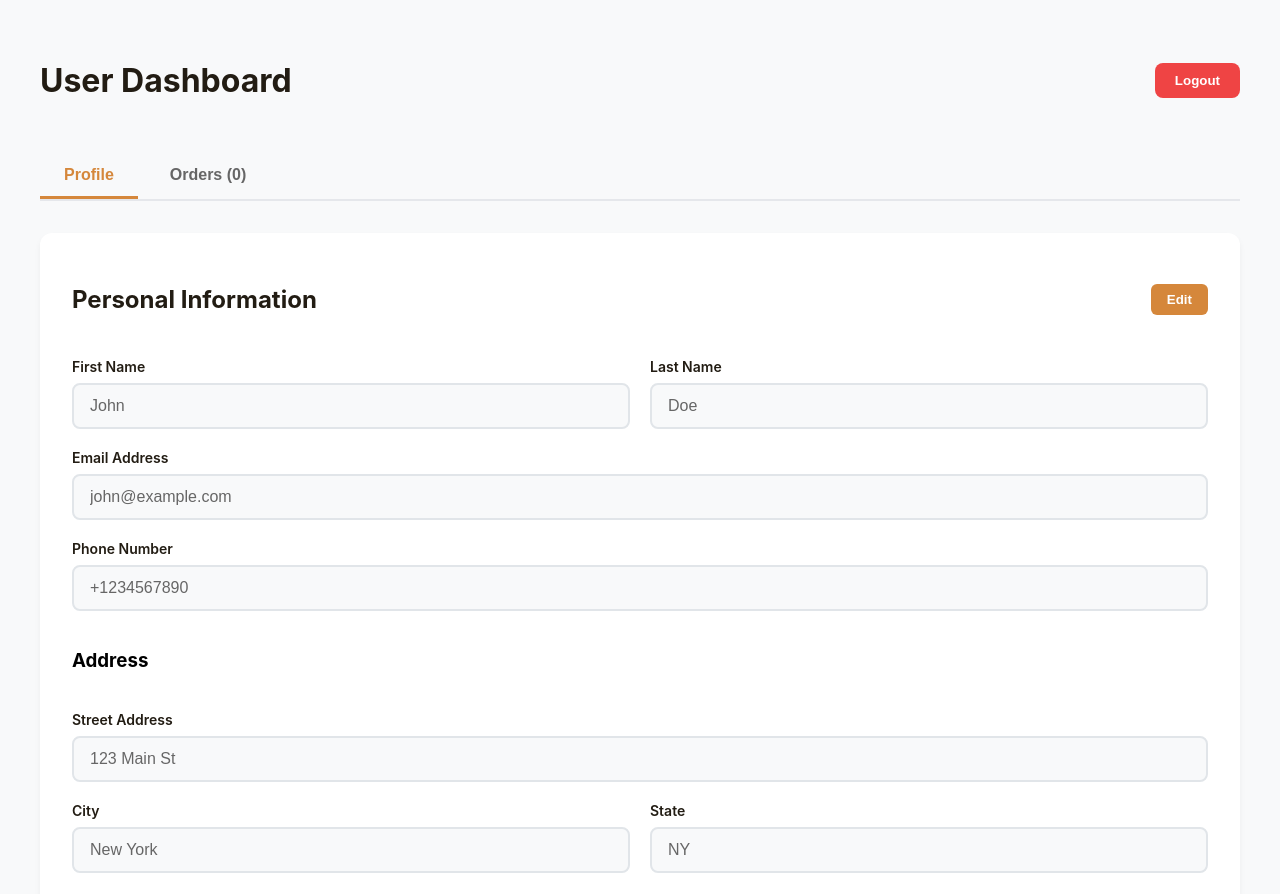
Scenario: DashboardPage › shows empty orders message when no orders exist
The image size is (1280, 894).
Click the button "Orders (0)".
click(208, 176)  # box [146,154,270,199]
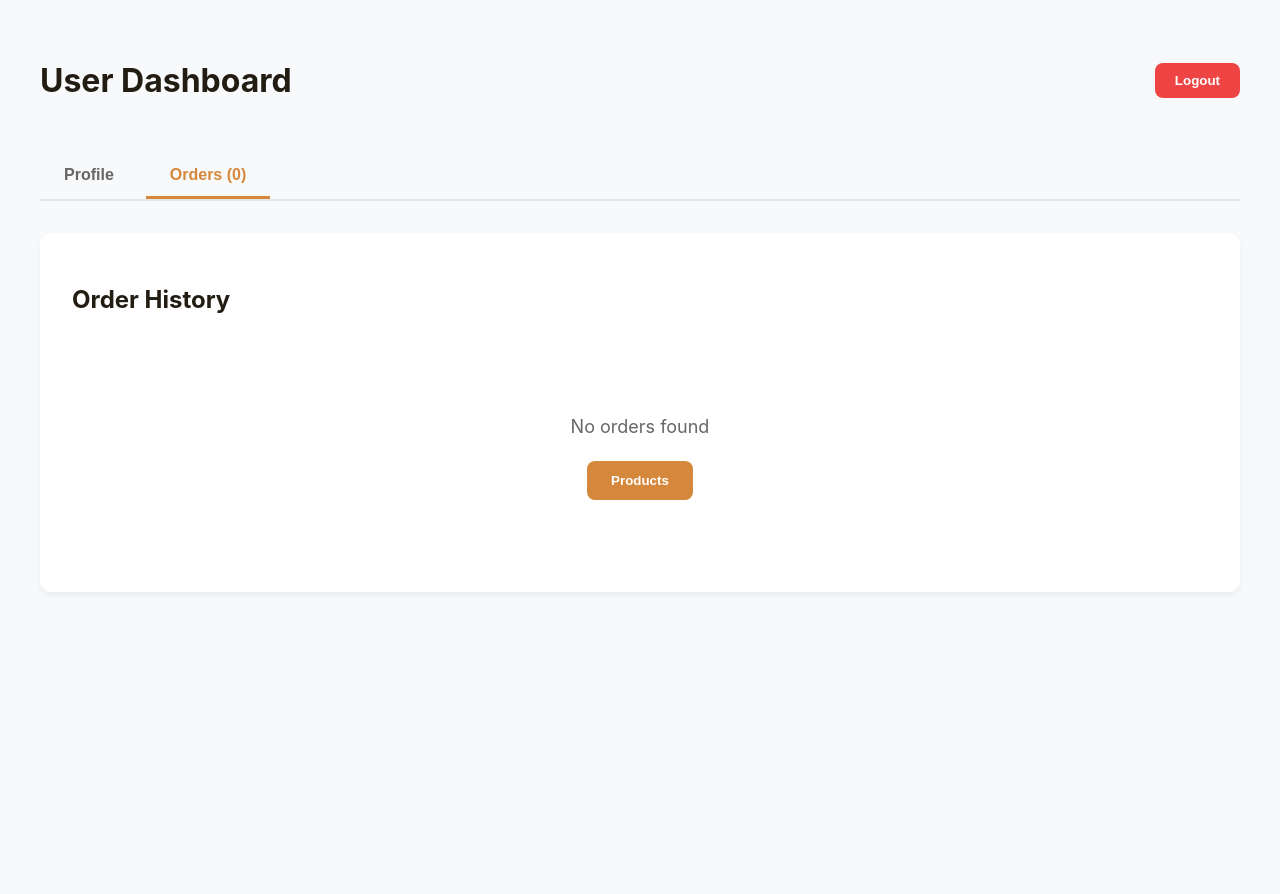
Expected: the text "No orders found" is shown, [571,416,709,437]
Expected: the button "Products" is shown, [587,461,693,500]
